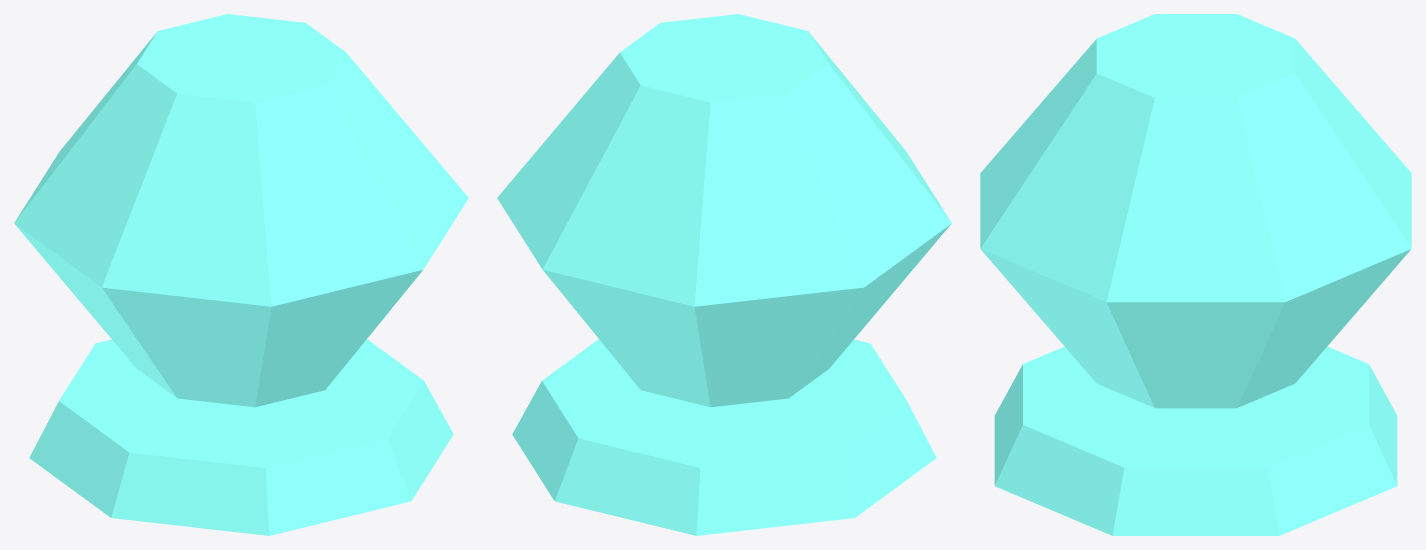
Rendered from check_item_available.glb.
3 views of the same model, side by side, from view 1: azimuth 30°, elevation 25°; view 2: azimuth 150°, elevation 25°; view 3: azimuth 270°, elevation 25° (orthographic).
Parts seen in each view (by area): view 1: check_item_available; view 2: check_item_available; view 3: check_item_available.
Part boxes in pixels (<box>): check_item_available: <box>14,14,468,535</box>; check_item_available: <box>497,14,951,535</box>; check_item_available: <box>980,14,1411,535</box>.
Size of the model in its own units: 0.2772 by 0.28 by 0.2772.
